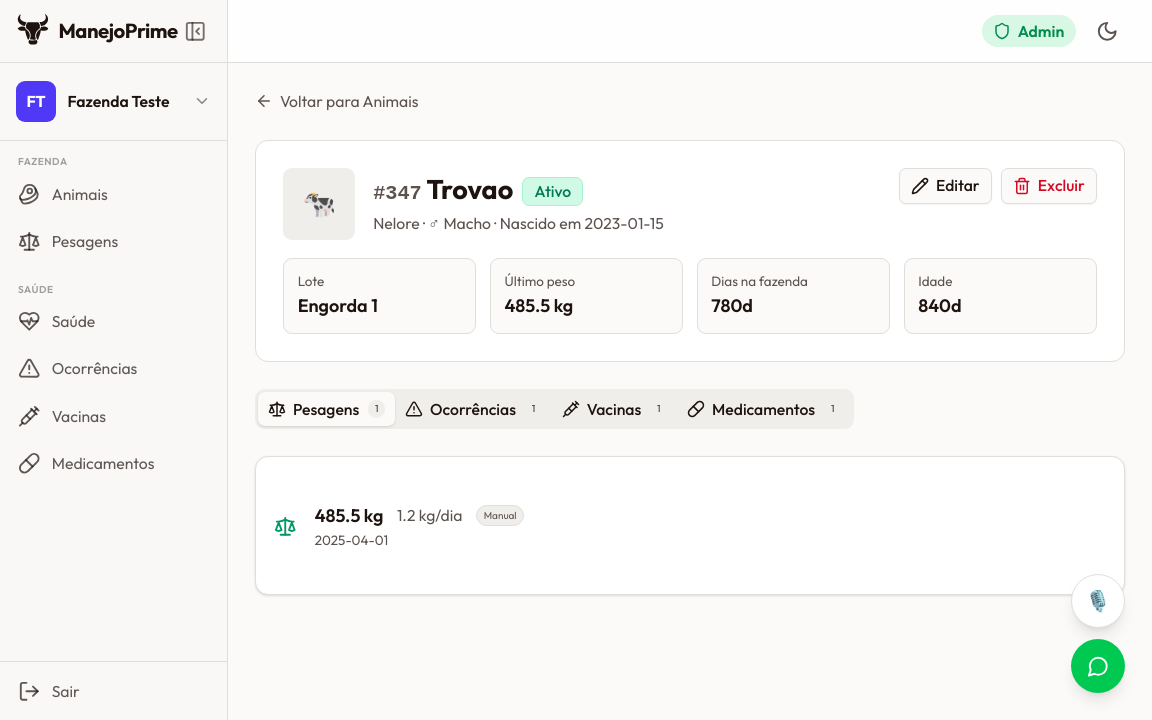
animal detail page — edit › opens edit dialog pre-filled with current animal data
Expected: the heading "#347 Trovao" is shown, [373,172,513,210]
Click the button "Editar".
click(945, 186)  # box [899,168,992,204]
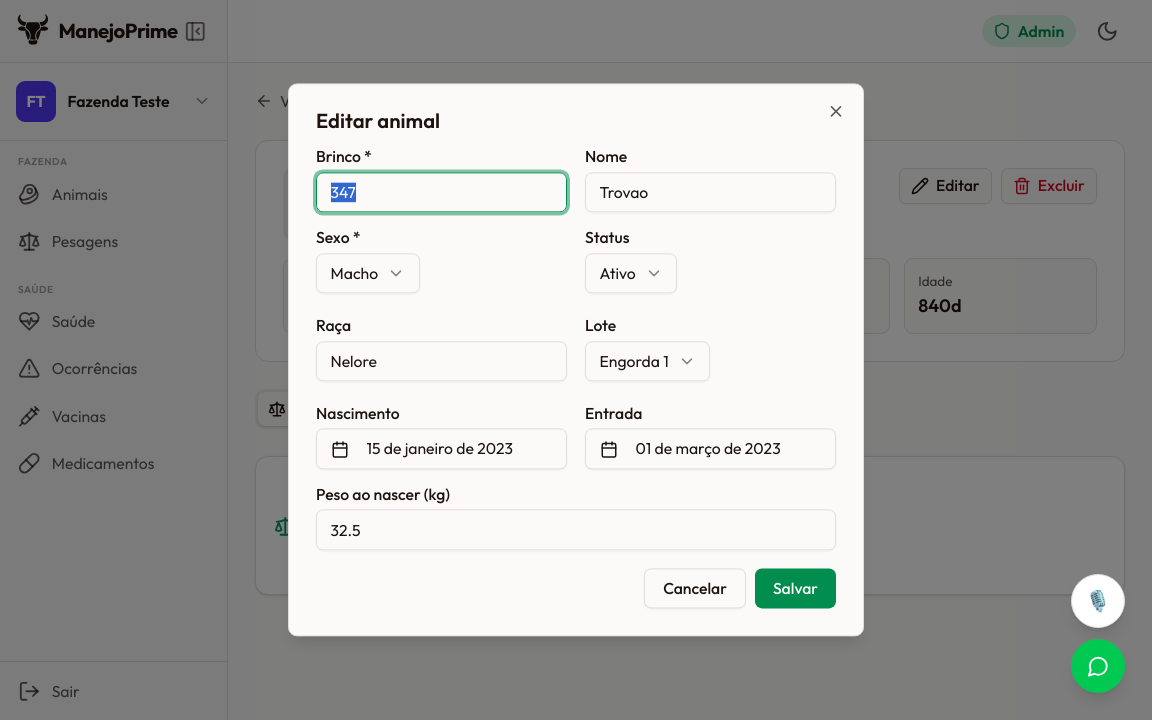
Expected: the dialog is shown, [288,83,864,637]
Expected: the field labelled "Brinco *" holds "347", [316,172,567,213]
Expected: the field labelled "Nome" holds "Trovao", [585,172,836,213]
